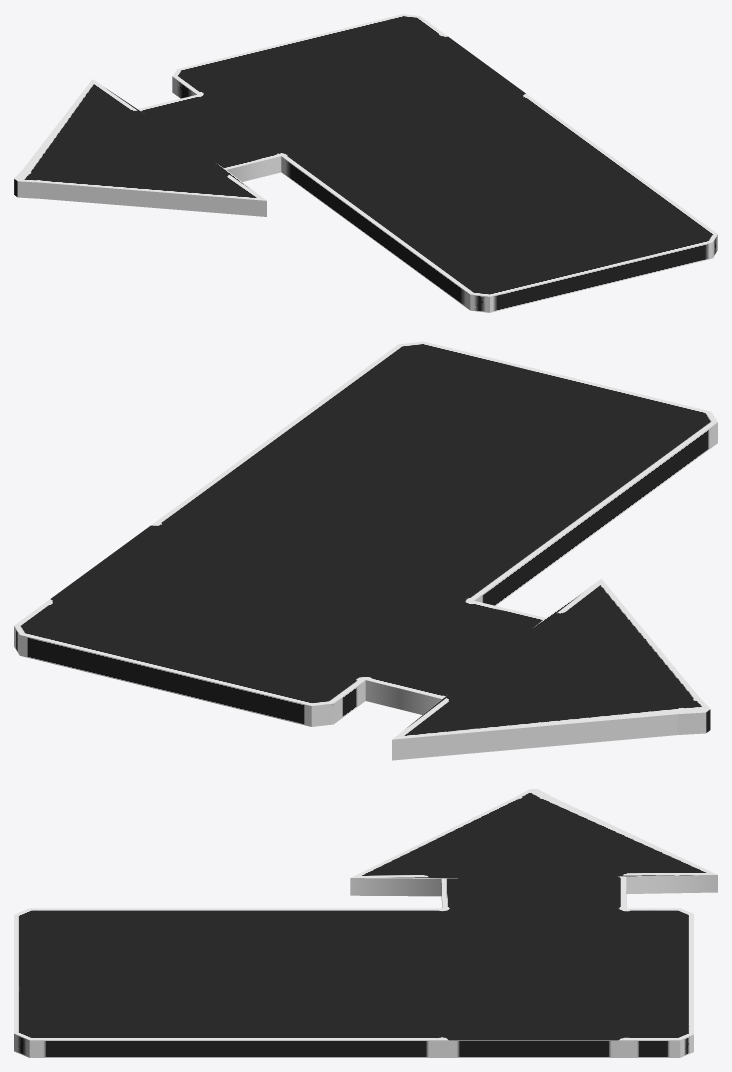
Rendered from SignGGJ.fbx.
3 renders of one model, top to bottom at view 1: azimuth 30°, elevation 25°; view 2: azimuth 150°, elevation 25°; view 3: azimuth 270°, elevation 25°, orthographic. The views are drawn at different scales.
Visible parts, largest first — view 1: pCube25; view 2: pCube25; view 3: pCube25.
Boxes of the visible parts, x1,y1,x2,y2 form: pCube25: [14, 14, 717, 312]; pCube25: [14, 341, 717, 760]; pCube25: [14, 789, 717, 1057].
Bounding box in the file's own units: 3.56 × 0.1171 × 4.22.
